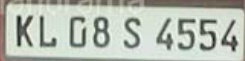character: (66, 15, 88, 48), (176, 16, 196, 52), (220, 16, 240, 52), (122, 16, 143, 50), (14, 13, 34, 48), (38, 14, 58, 48), (155, 16, 174, 50), (199, 17, 218, 51), (91, 16, 110, 48)
